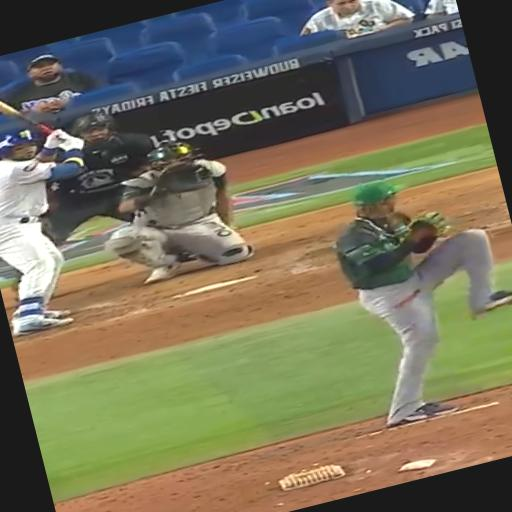bat: (0, 101, 52, 134)
